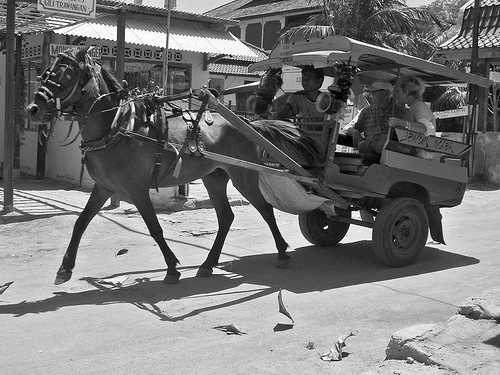horse: (21, 43, 328, 292)
